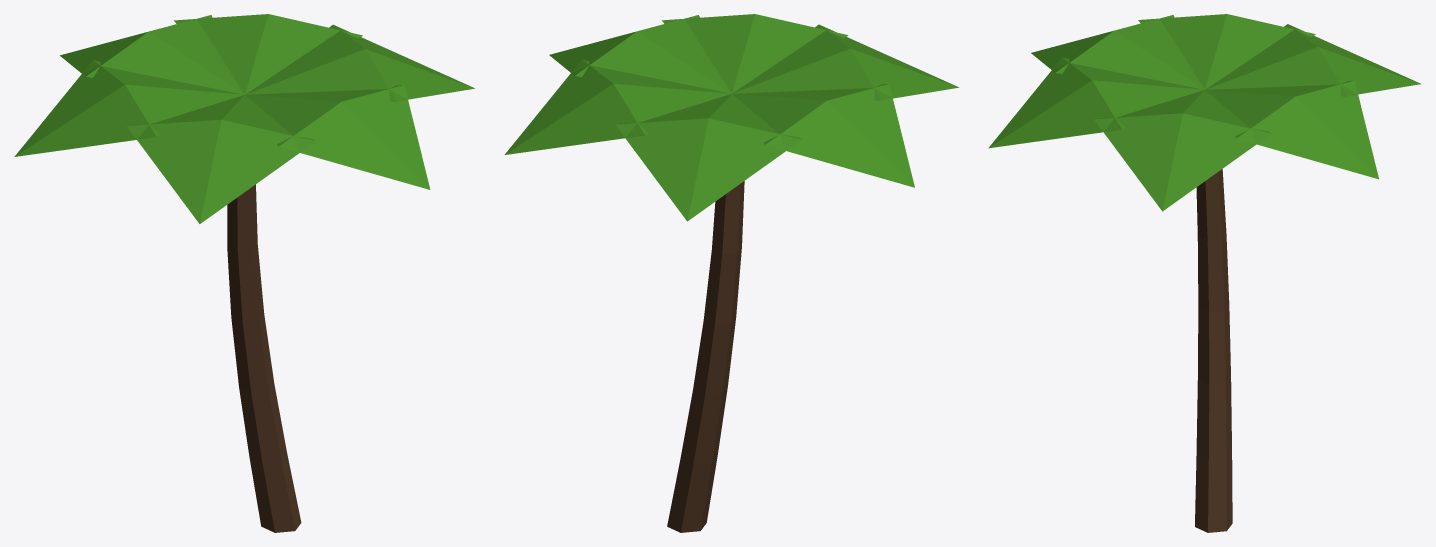
The model's file is palmera_alta.glb.
The picture shows the model from 3 angles, left to right: view 1: azimuth 30°, elevation 25°; view 2: azimuth 150°, elevation 25°; view 3: azimuth 270°, elevation 25°; orthographic projection. The views are drawn at different scales.
Visible parts, largest first — view 1: Palm_0; view 2: Palm_0; view 3: Palm_0.
Boxes of the visible parts, box(x1,y1,x2,y2) form: Palm_0: box(14, 14, 475, 532); Palm_0: box(504, 14, 959, 532); Palm_0: box(988, 14, 1420, 532).
Size of the model in its own units: 6.47 by 7 by 6.21.
